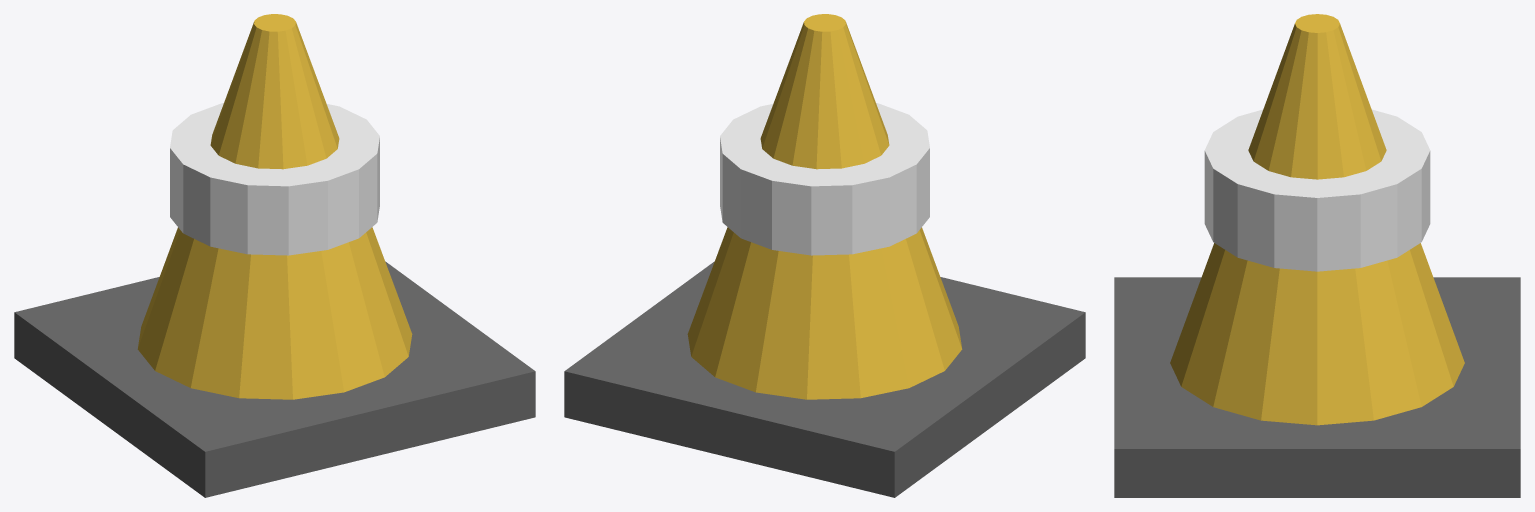
3 renders of one model, left to right at view 1: azimuth 30°, elevation 25°; view 2: azimuth 150°, elevation 25°; view 3: azimuth 270°, elevation 25°, orthographic. The views are drawn at different scales.
Parts seen in each view (by area): view 1: Cone_Base, Cone_Body, Cone_Stripe; view 2: Cone_Base, Cone_Body, Cone_Stripe; view 3: Cone_Body, Cone_Base, Cone_Stripe.
Part boxes in pixels (x1,y1,x2,y2): Cone_Base: (14, 261, 535, 497); Cone_Body: (137, 14, 412, 399); Cone_Stripe: (170, 103, 379, 255); Cone_Base: (564, 261, 1085, 497); Cone_Body: (687, 14, 962, 399); Cone_Stripe: (720, 103, 929, 255); Cone_Body: (1170, 14, 1464, 425); Cone_Base: (1114, 277, 1520, 497); Cone_Stripe: (1204, 109, 1430, 271).
Size of the model in its own units: 0.9 by 0.95 by 0.9.
